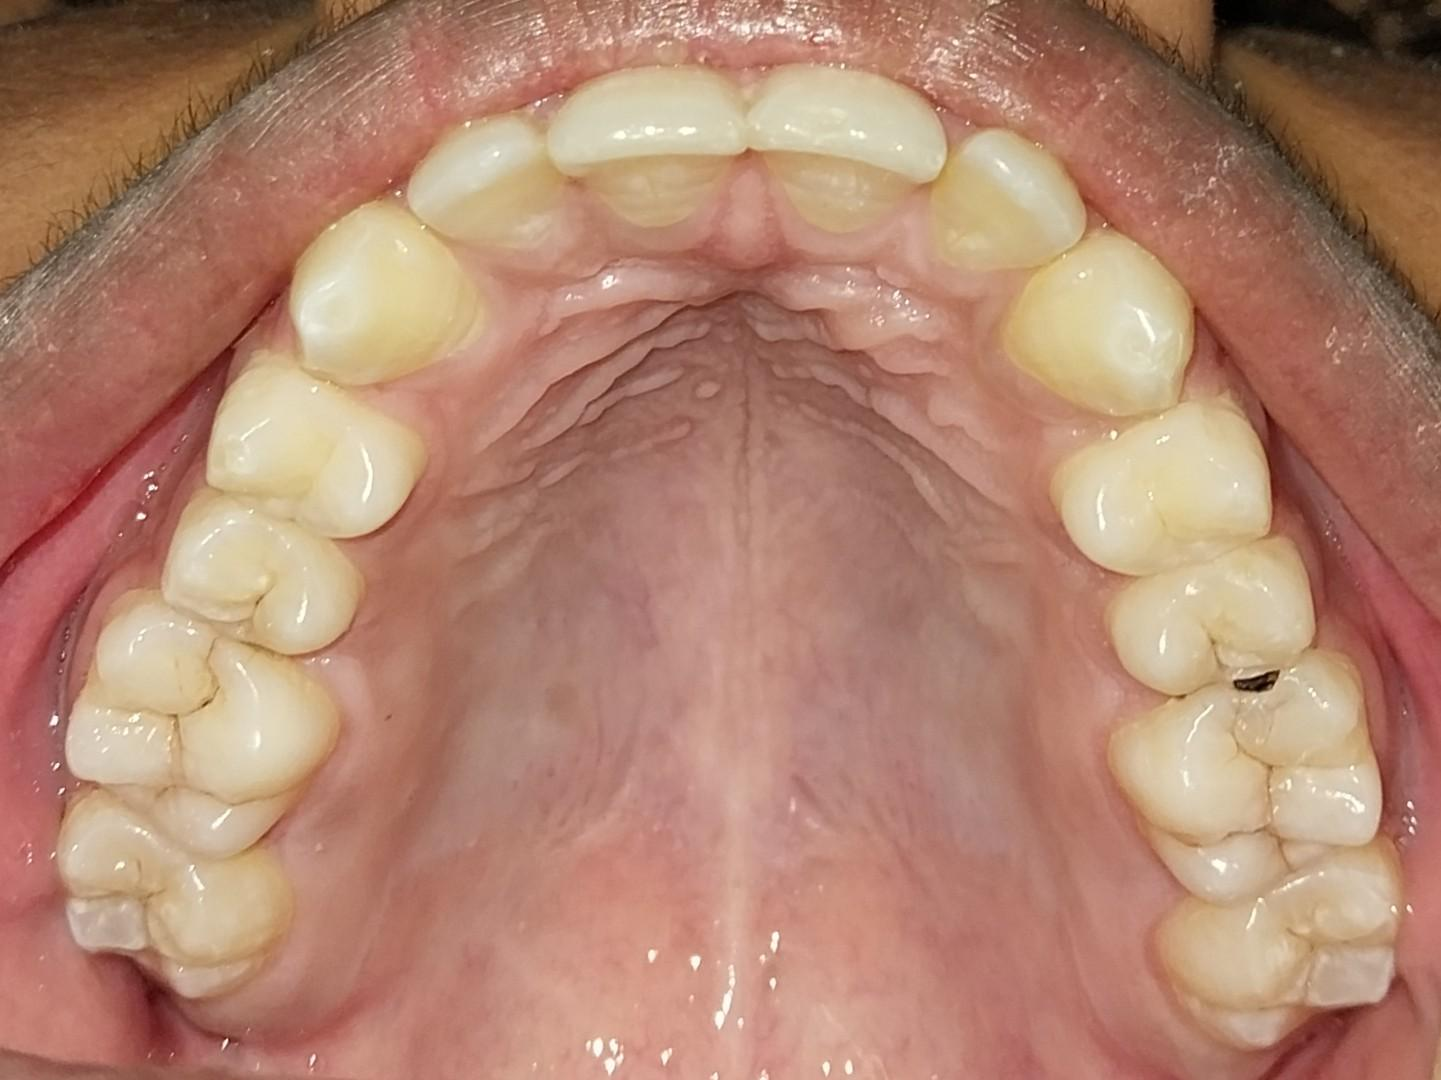D: (1113, 652, 1378, 909)
